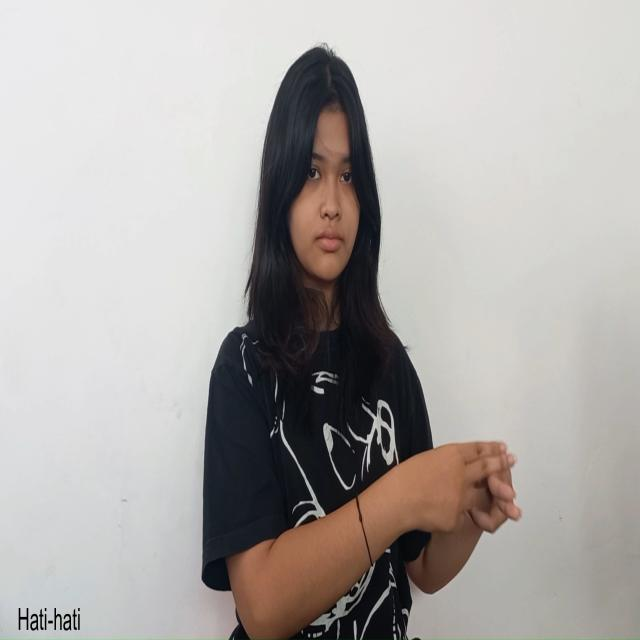Hati-hati -BISINDO-: (398, 440, 525, 535)
